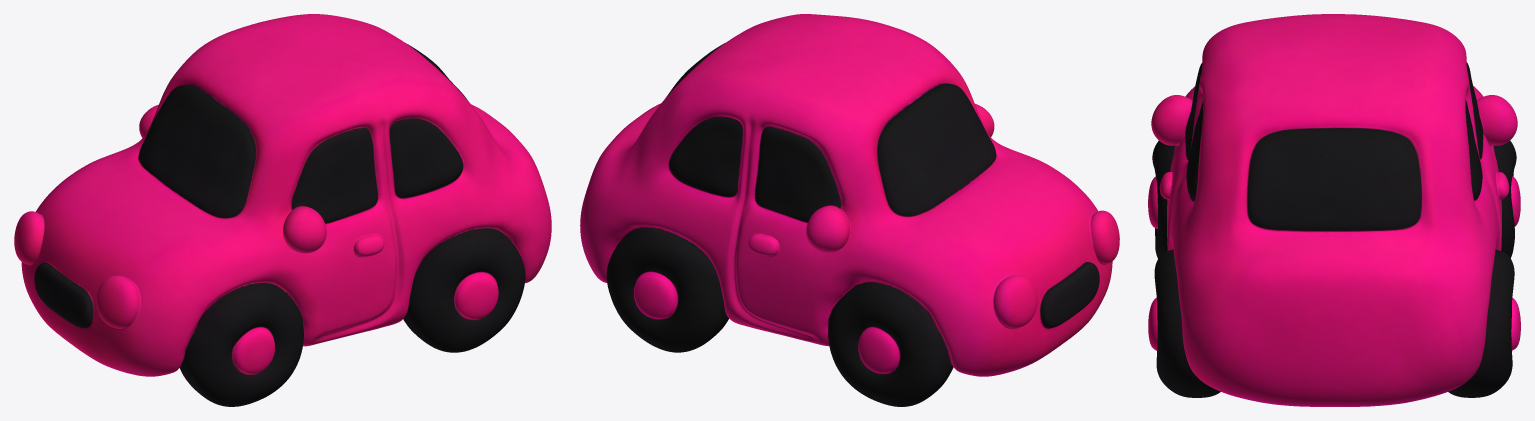
Rendered from car.glb.
3 views of the same model, side by side, from view 1: azimuth 30°, elevation 25°; view 2: azimuth 150°, elevation 25°; view 3: azimuth 270°, elevation 25° (orthographic). The views are drawn at different scales.
Size of the model in its own units: 1.9 by 1.08 by 1.21.
Materials: 1 (1 with a texture image).
